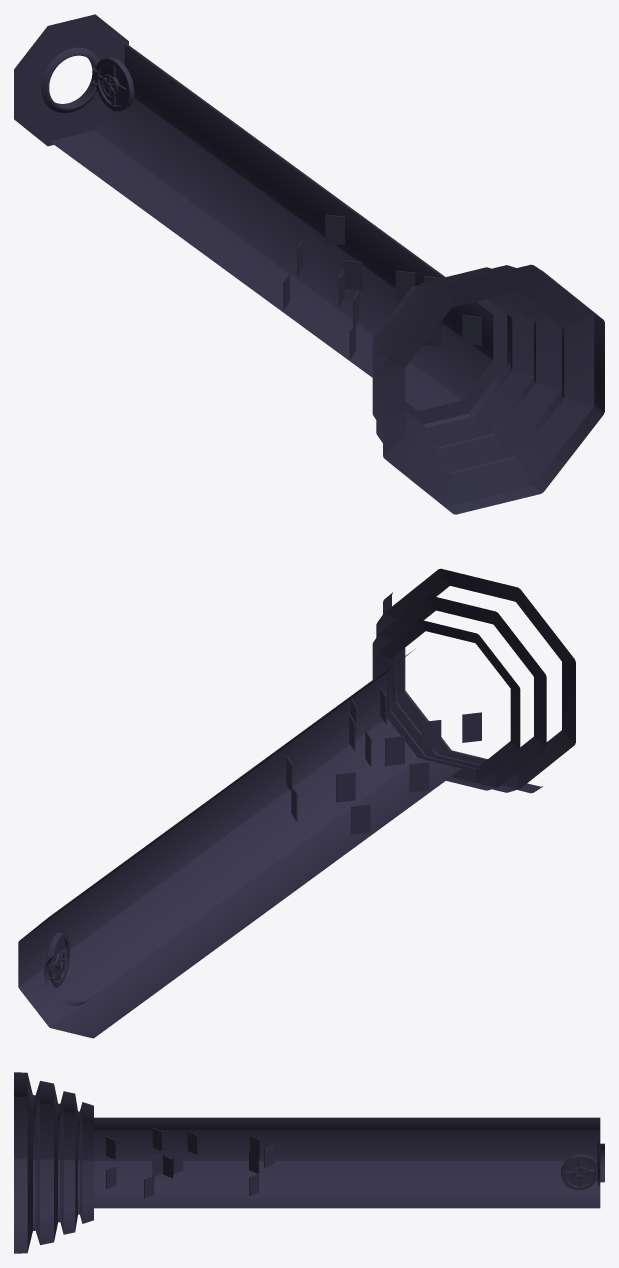
Rendered from 7th_stage.glb.
3 renders of one model, top to bottom at view 1: azimuth 30°, elevation 25°; view 2: azimuth 150°, elevation 25°; view 3: azimuth 270°, elevation 25°, orthographic. The views are drawn at different scales.
Visible parts, largest first — view 1: corridor, wall, door; view 2: corridor, door; view 3: corridor, door, wall.
Boxes of the visible parts, <box> form: corridor: <box>49,22,604,514</box>; wall: <box>14,14,128,146</box>; door: <box>92,57,134,111</box>; corridor: <box>18,568,575,1038</box>; door: <box>46,932,70,987</box>; corridor: <box>14,1072,600,1253</box>; door: <box>561,1154,600,1190</box>; wall: <box>597,1139,604,1186</box>.
Size of the model in its own units: 8 by 8 by 28.02.
